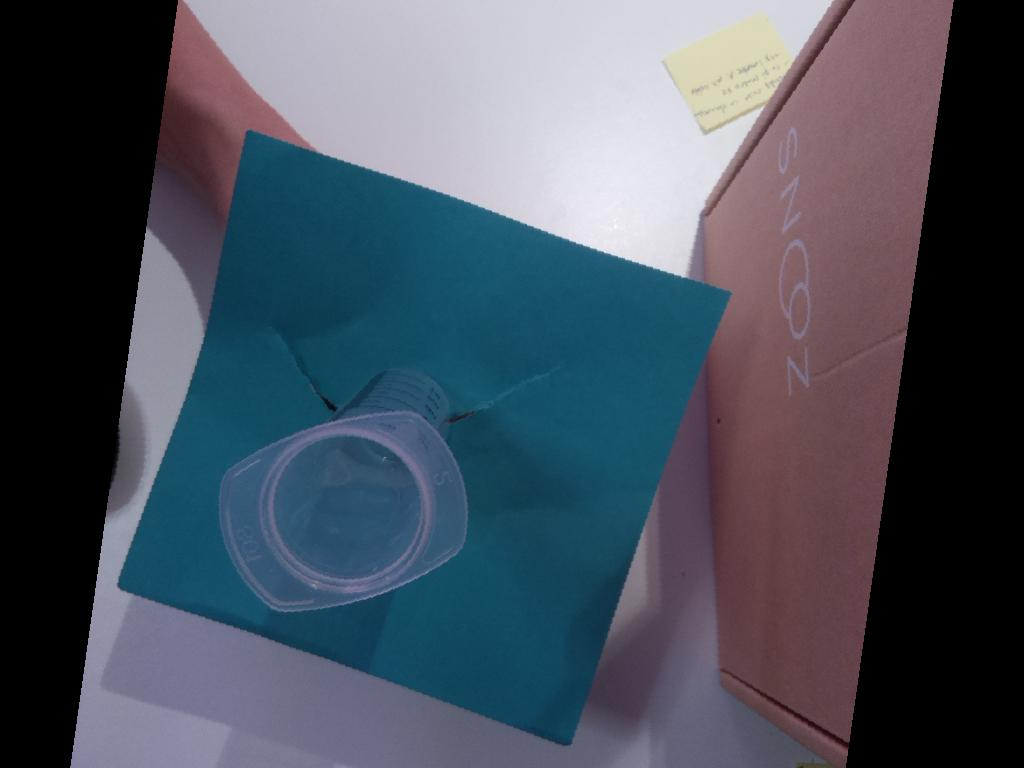clean: (217, 407, 469, 614)
